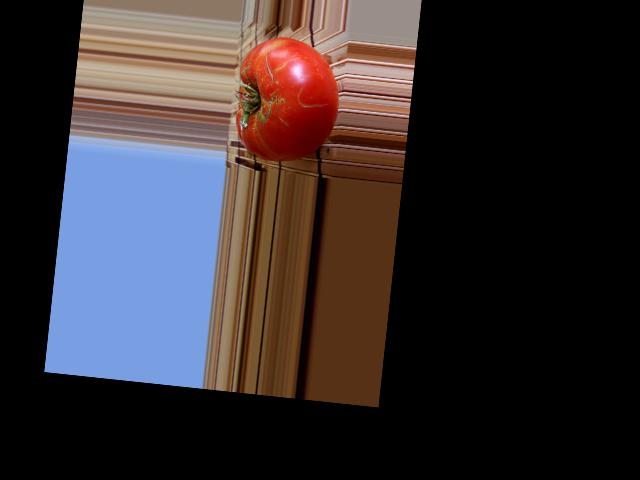tomato: (231, 33, 343, 167)
